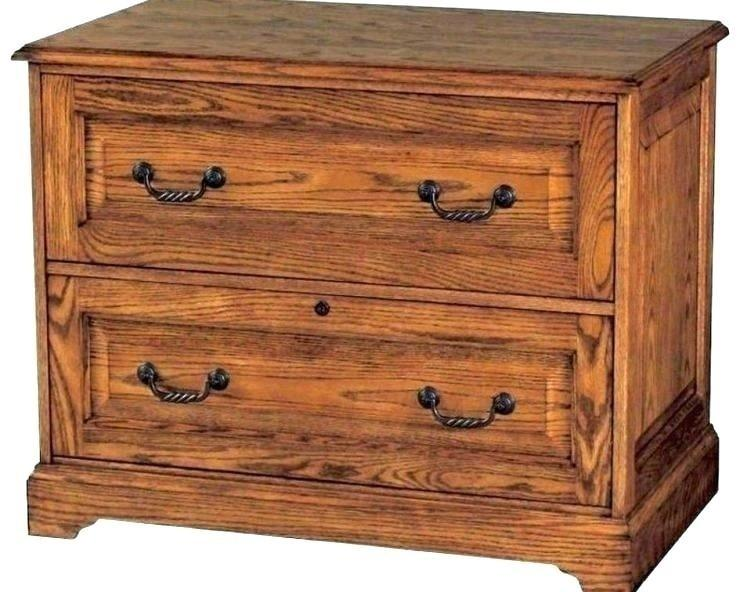cabinet_door: (41, 288, 614, 487), (62, 86, 614, 288)
handle: (407, 382, 514, 435), (415, 179, 517, 229), (131, 159, 231, 208), (133, 364, 234, 412)
